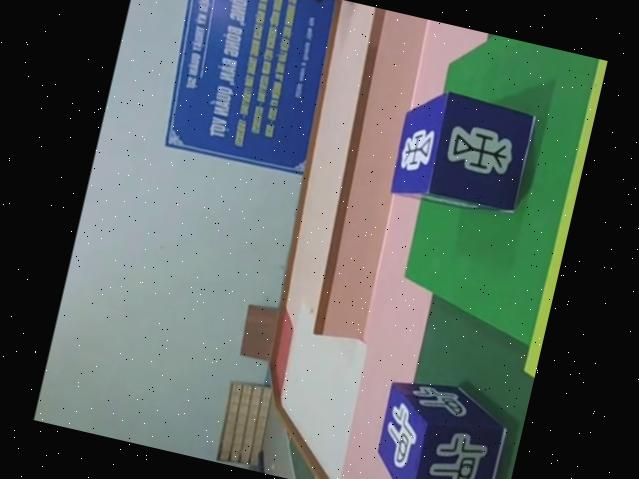R2 Real Blue: (387, 83, 539, 222), (365, 373, 514, 479)
